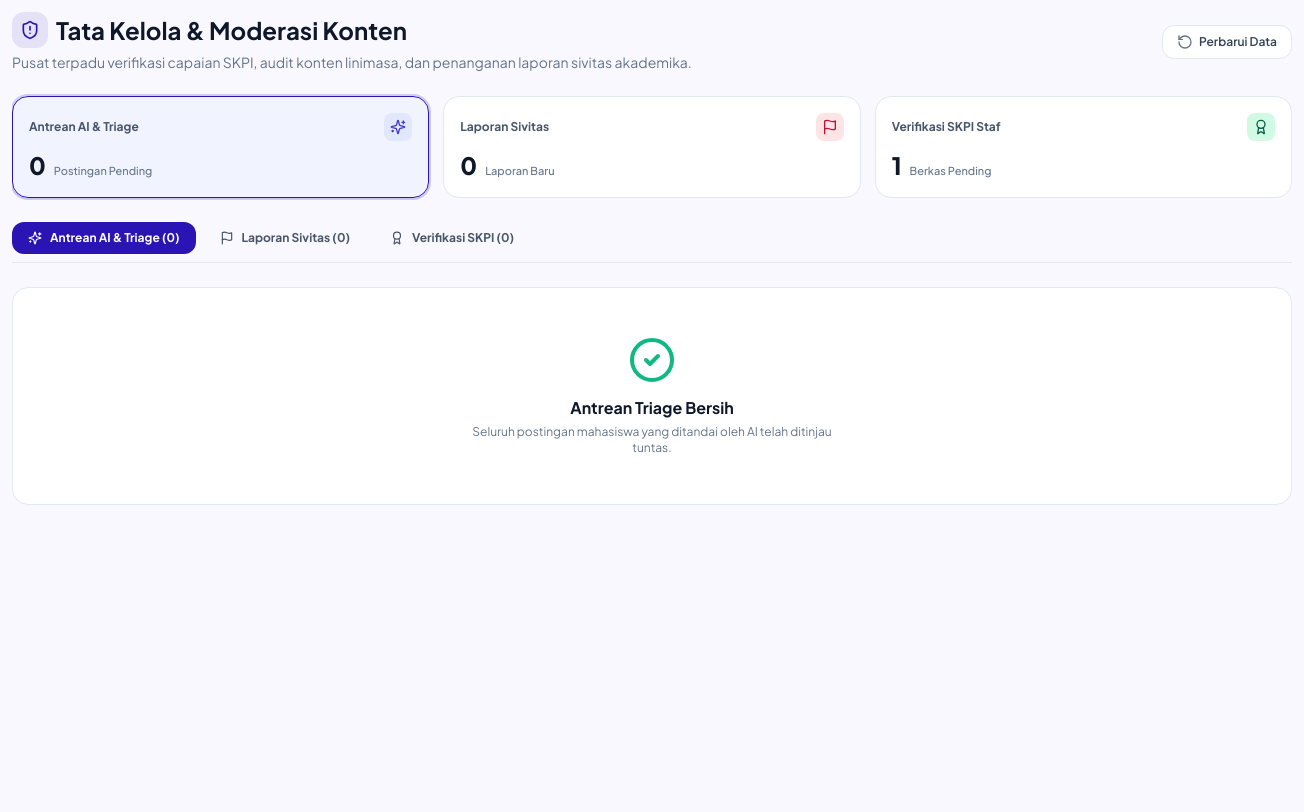
Scenario: M08 Moderation & Reports Frontend Tests › switches to portfolio tab and loads pending SKPI portfolio items
Click the button "Verifikasi SKPI (0)".
click(452, 238)  # box [374, 222, 530, 254]
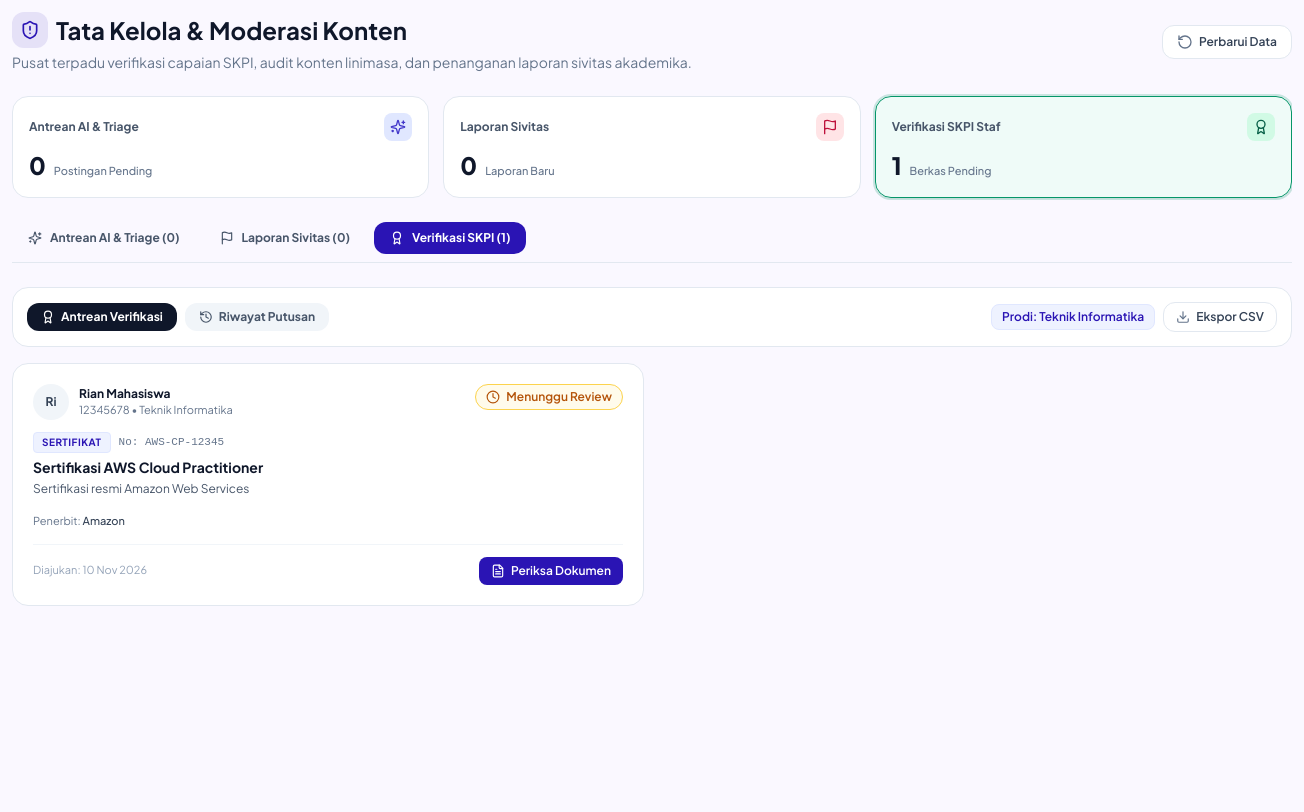
expect the heading "Sertifikasi AWS Cloud Practitioner" is shown: met, box [33, 458, 263, 476]
expect the text "Rian Mahasiswa" is shown: met, box [79, 386, 170, 401]
expect the text "No: AWS-CP-12345" is shown: met, box [118, 434, 224, 451]
